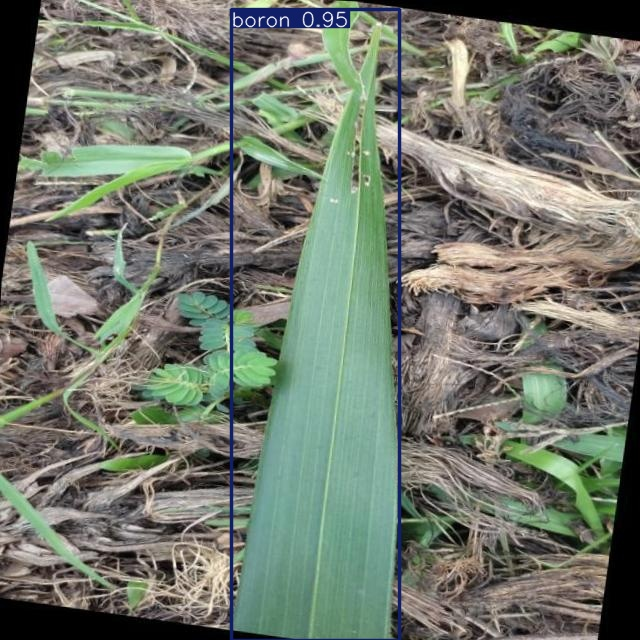nitrogen: (232, 9, 399, 640)
